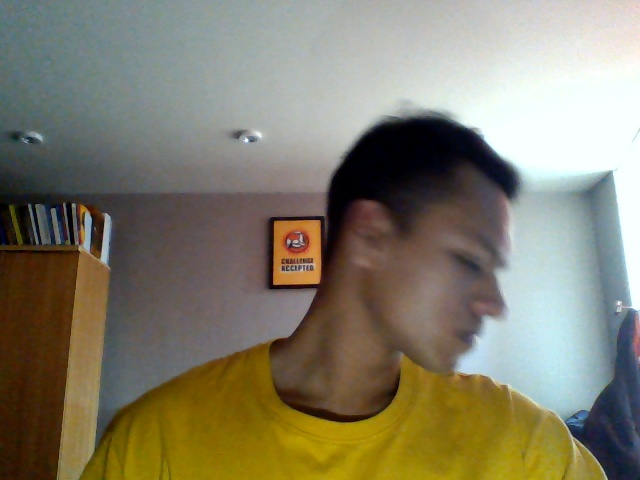no_mask: (380, 290, 513, 378)
